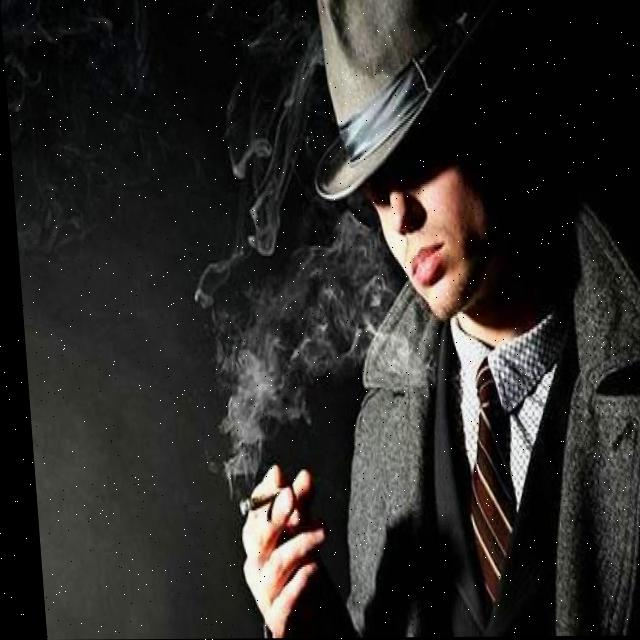cigarette: (232, 486, 280, 512)
